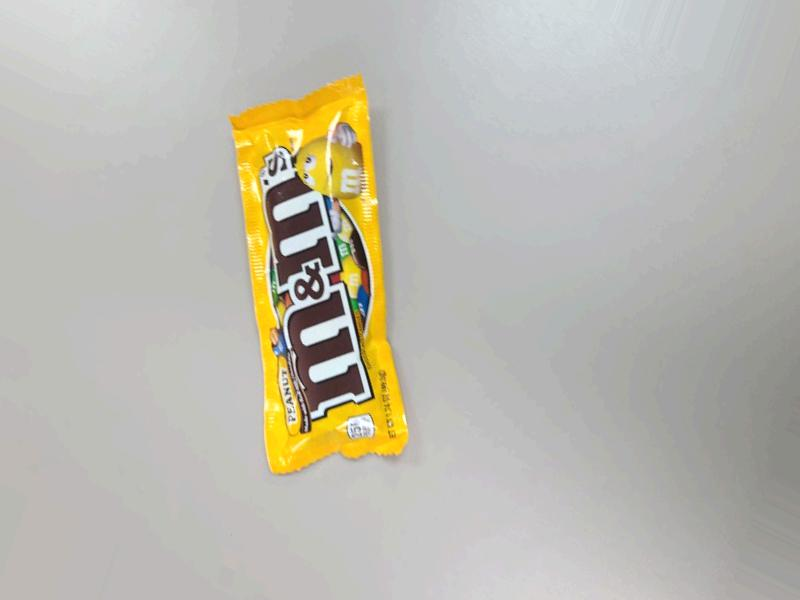m&m: (236, 102, 400, 455)
